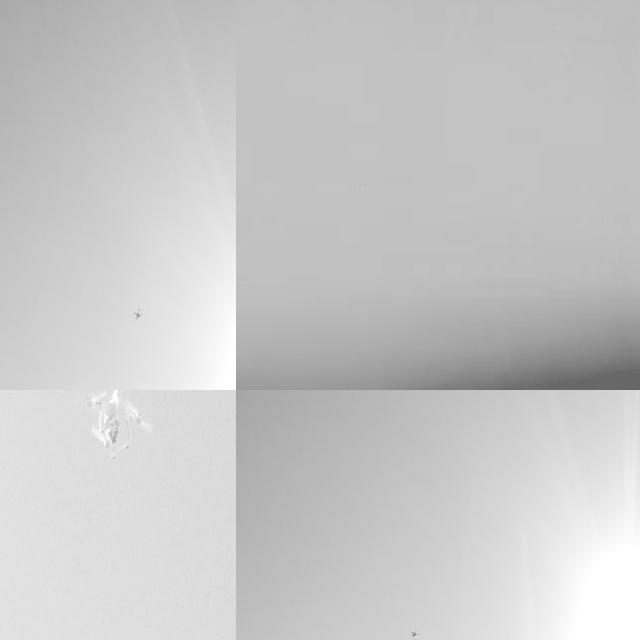drone: (81, 390, 151, 461), (131, 298, 146, 324), (407, 621, 422, 640)
